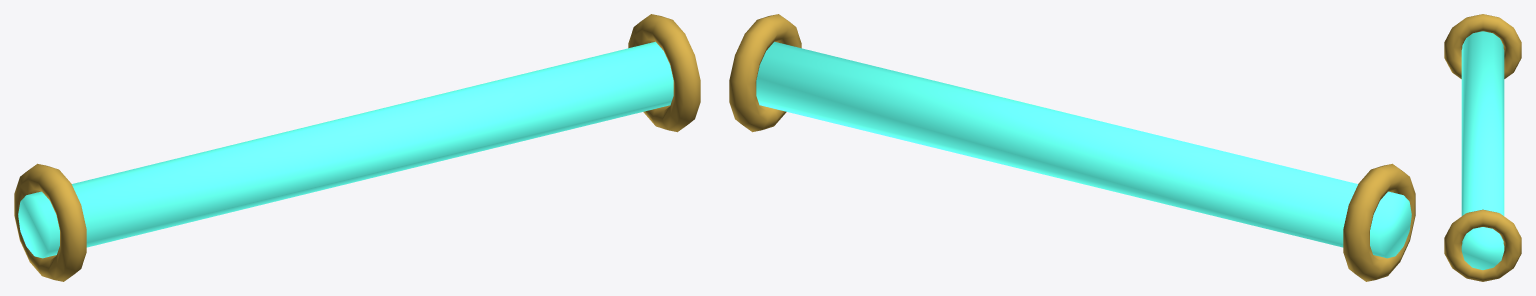
File: Diagram_ConnectionLine.fbx
3 views of the same model, side by side, from view 1: azimuth 30°, elevation 25°; view 2: azimuth 150°, elevation 25°; view 3: azimuth 270°, elevation 25° (orthographic). The views are drawn at different scales.
Parts seen in each view (by area): view 1: Conduit_Tube, Conduit_FlangeR, Conduit_FlangeL; view 2: Conduit_Tube, Conduit_FlangeR, Conduit_FlangeL; view 3: Conduit_Tube, Conduit_FlangeL, Conduit_FlangeR.
Boxes of the visible parts, left/top/right/bottom form: Conduit_Tube: left=18, top=41, right=673, bottom=258; Conduit_FlangeR: left=14, top=163, right=86, bottom=281; Conduit_FlangeL: left=628, top=14, right=700, bottom=132; Conduit_Tube: left=756, top=41, right=1411, bottom=258; Conduit_FlangeR: left=1343, top=163, right=1415, bottom=281; Conduit_FlangeL: left=729, top=14, right=801, bottom=132; Conduit_Tube: left=1461, top=31, right=1504, bottom=269; Conduit_FlangeL: left=1444, top=209, right=1521, bottom=281; Conduit_FlangeR: left=1444, top=14, right=1521, bottom=78.
Bounding box in the file's own units: 8 × 1.3 × 1.27.
